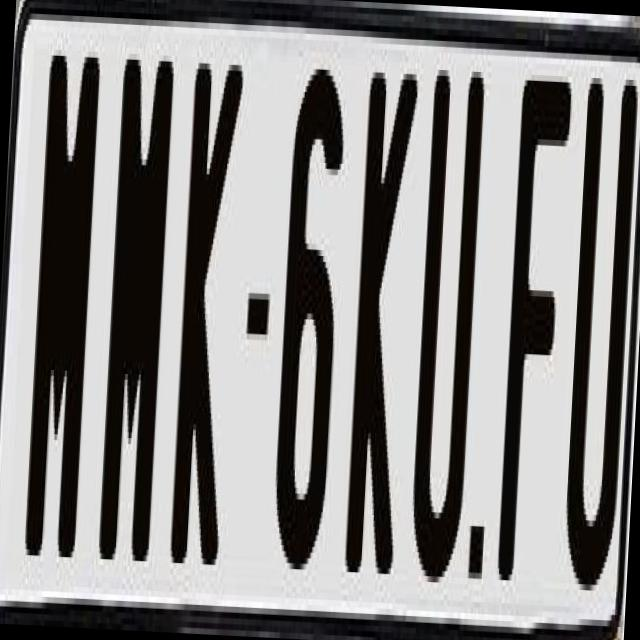6: (266, 62, 344, 582)
F: (494, 74, 572, 606)
K: (343, 72, 422, 604), (166, 46, 243, 566)
M: (97, 59, 180, 574), (24, 50, 104, 558)
U: (406, 70, 488, 618), (562, 78, 630, 591)
